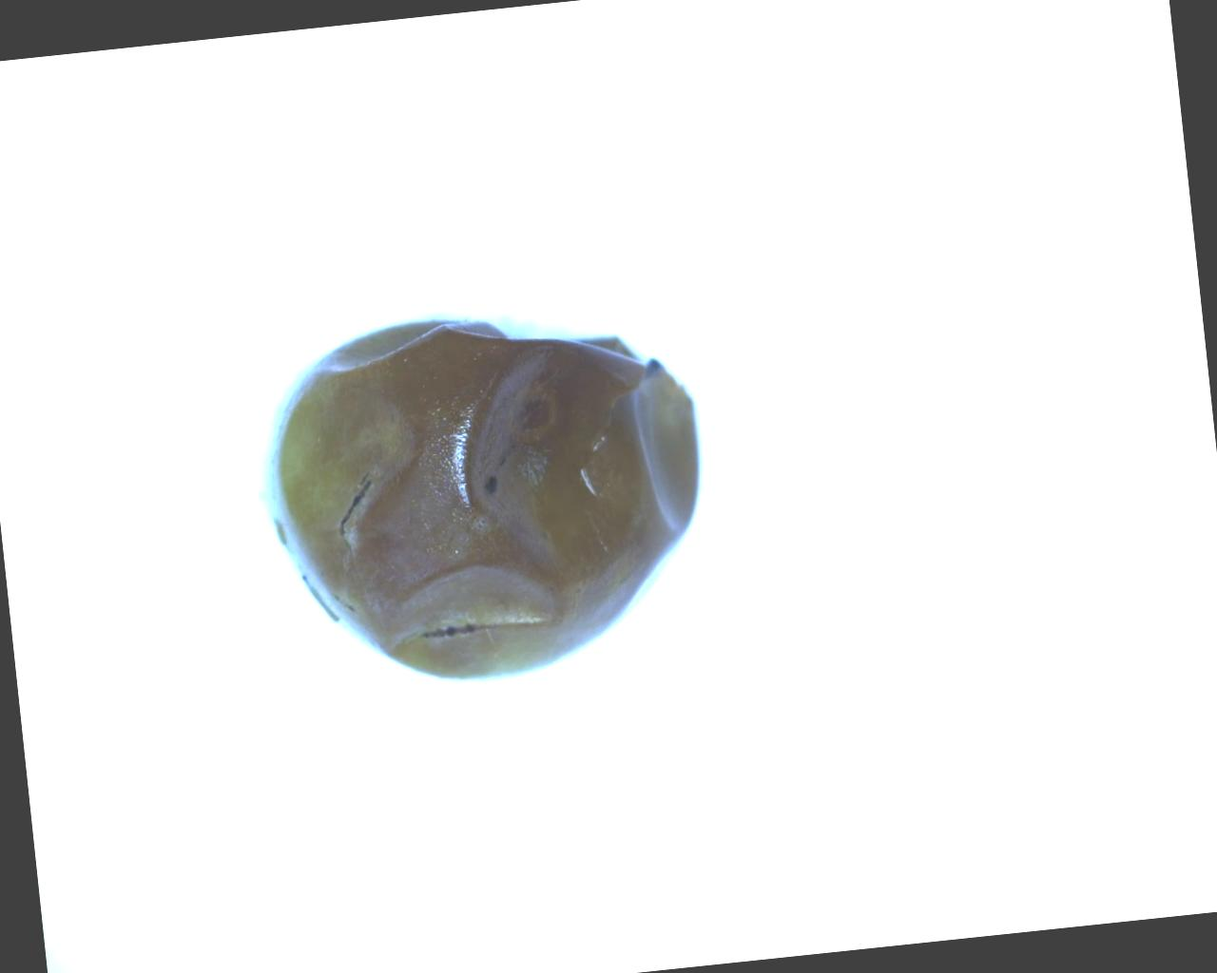Grape Rotten: (249, 288, 724, 701)
